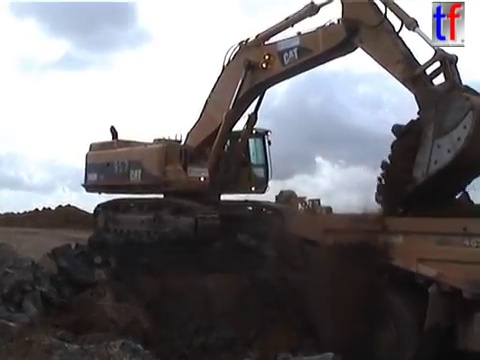excavator: (77, 1, 480, 242)
truck: (279, 208, 480, 359)
wheel loader: (273, 187, 335, 224)
